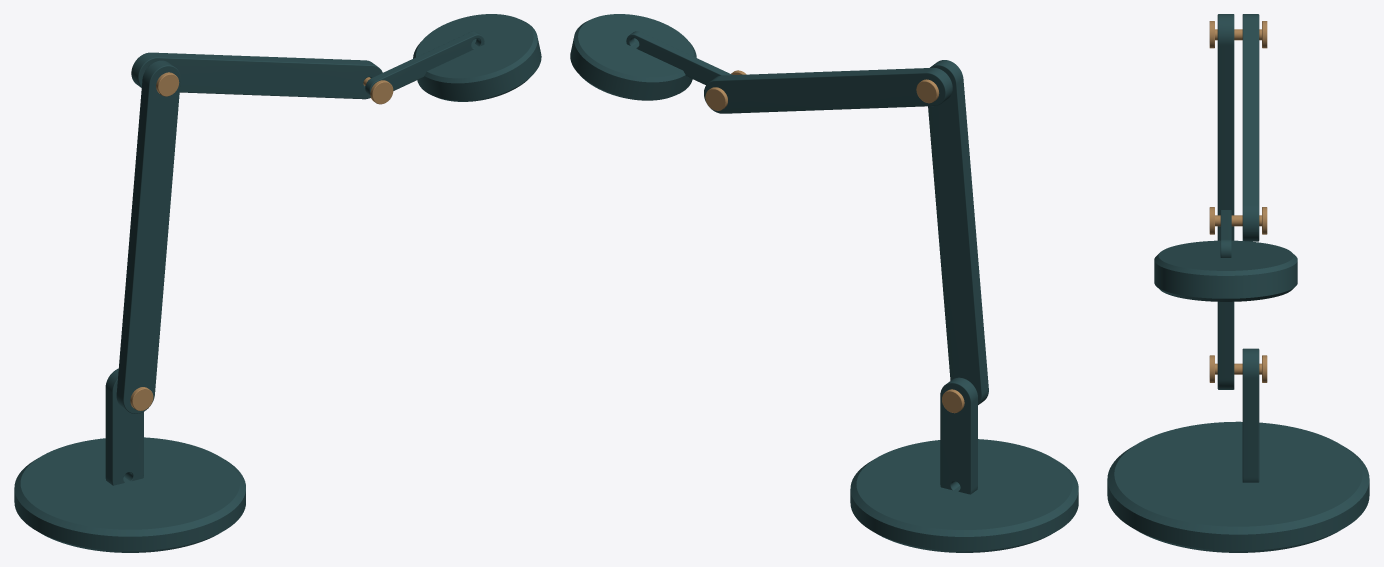
3 renders of one model, left to right at view 1: azimuth 30°, elevation 25°; view 2: azimuth 150°, elevation 25°; view 3: azimuth 270°, elevation 25°, orthographic. The views are drawn at different scales.
Parts seen in each view (by area): view 1: Base body, Lower arm, Upper arm, Head housing, Fixed upright, Head neck; view 2: Base body, Lower arm, Upper arm, Head housing, Fixed upright, Head neck; view 3: Base body, Head housing, Lower arm, Upper arm, Fixed upright, Head neck.
Part boxes in pixels (<box>): Base body: <box>14,437,245,552</box>; Lower arm: <box>116,60,180,413</box>; Upper arm: <box>131,52,382,99</box>; Head housing: <box>413,14,541,101</box>; Fixed upright: <box>105,368,143,485</box>; Head neck: <box>365,31,484,95</box>; Base body: <box>850,439,1078,552</box>; Lower arm: <box>928,60,988,404</box>; Upper arm: <box>704,67,952,113</box>; Head housing: <box>570,14,696,100</box>; Fixed upright: <box>940,377,977,494</box>; Head neck: <box>626,31,732,84</box>; Base body: <box>1107,421,1369,552</box>; Head housing: <box>1154,240,1297,301</box>; Lower arm: <box>1217,14,1234,389</box>; Upper arm: <box>1242,14,1259,241</box>; Fixed upright: <box>1242,348,1259,482</box>; Head neck: <box>1220,210,1231,257</box>.
Size of the model in its own units: 0.471 by 0.4039 by 0.19.
